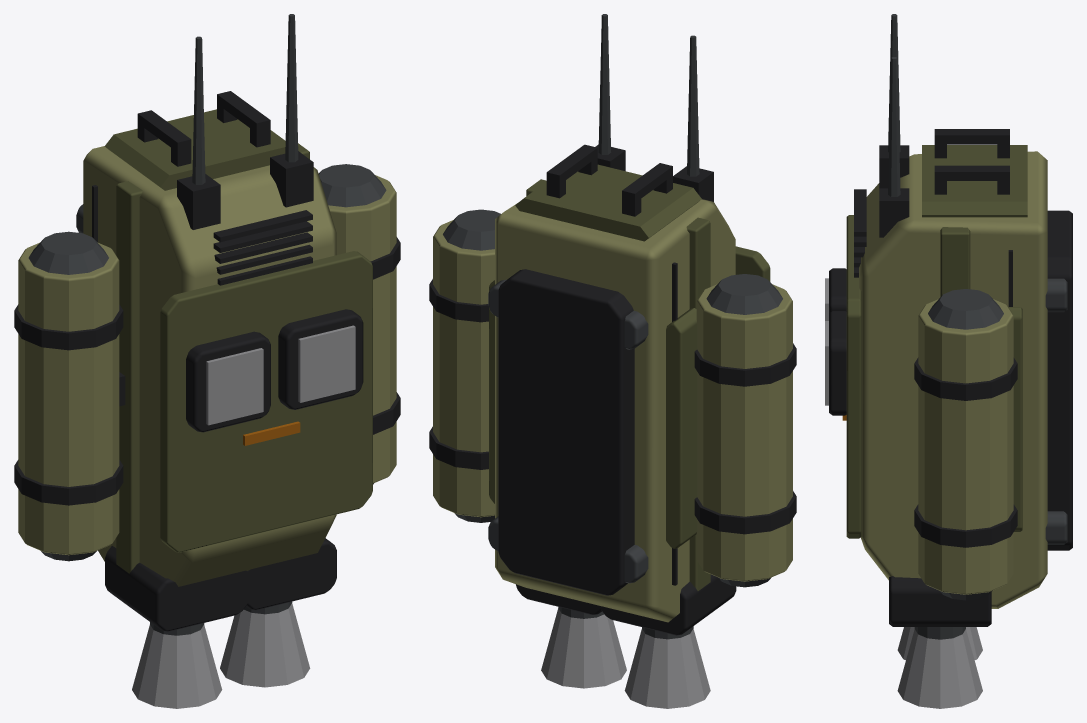
The model's file is backpack_medium.glb.
3 renders of one model, left to right at view 1: azimuth 30°, elevation 25°; view 2: azimuth 150°, elevation 25°; view 3: azimuth 270°, elevation 25°, orthographic. The views are drawn at different scales.
Visible parts, largest first — view 1: BackPlate, Body, Tank0, BodyBand, Tank1, TopCap, NozzleHousing0, Nozzle0, Nozzle1, NozzleHousing1, Hardpoint2, HardpointRail1 (+19 smaller); view 2: MountPlate, Body, Tank0, Tank1, SidePlateL, TopCap, Nozzle0, Nozzle1, NozzleHousing0, BodyBand, TankCapTop0, TankStrap01 (+15 smaller); view 3: Body, Tank1, MountPlate, TopCap, Nozzle1, BackPlate, NozzleHousing1, TankCapTop1, SidePlateR, TankStrap10, TankStrap11, BodyBand (+13 smaller).
Boxes of the visible parts, left/top/right/bottom form: BackPlate: left=160, top=251, right=372, bottom=552; Body: left=83, top=146, right=336, bottom=586; Tank0: left=18, top=242, right=119, bottom=555; BodyBand: left=116, top=143, right=309, bottom=573; Tank1: left=328, top=175, right=396, bottom=483; TopCap: left=104, top=109, right=300, bottom=190; NozzleHousing0: left=105, top=546, right=247, bottom=631; Nozzle0: left=132, top=624, right=222, bottom=708; Nozzle1: left=220, top=603, right=310, bottom=687; NozzleHousing1: left=246, top=538, right=336, bottom=610; Hardpoint2: left=278, top=309, right=363, bottom=409; HardpointRail1: left=206, top=348, right=263, bottom=425; MountPlate: left=498, top=269, right=634, bottom=595; Body: left=495, top=199, right=735, bottom=622; Tank0: left=696, top=284, right=792, bottom=581; Tank1: left=433, top=220, right=494, bottom=517; SidePlateL: left=666, top=308, right=697, bottom=548; TopCap: left=515, top=164, right=701, bottom=241; Nozzle0: left=624, top=629, right=710, bottom=708; Nozzle1: left=541, top=608, right=626, bottom=688; NozzleHousing0: left=600, top=574, right=736, bottom=635; BodyBand: left=526, top=179, right=710, bottom=590; TankCapTop0: left=706, top=274, right=782, bottom=314; TankStrap01: left=694, top=343, right=796, bottom=386; Body: left=859, top=151, right=1047, bottom=608; Tank1: left=918, top=299, right=1013, bottom=594; MountPlate: left=1047, top=210, right=1072, bottom=550; TopCap: left=922, top=145, right=1027, bottom=217; Nozzle1: left=897, top=629, right=982, bottom=708; BackPlate: left=846, top=215, right=861, bottom=538; NozzleHousing1: left=889, top=576, right=991, bottom=626; TankCapTop1: left=928, top=289, right=1003, bottom=329; SidePlateR: left=1008, top=307, right=1022, bottom=531; TankStrap10: left=914, top=504, right=1017, bottom=547; TankStrap11: left=914, top=357, right=1017, bottom=400; BodyBand: left=940, top=227, right=970, bottom=296.
Bounding box in the file's own units: 1.61 × 2.78 × 0.985.
